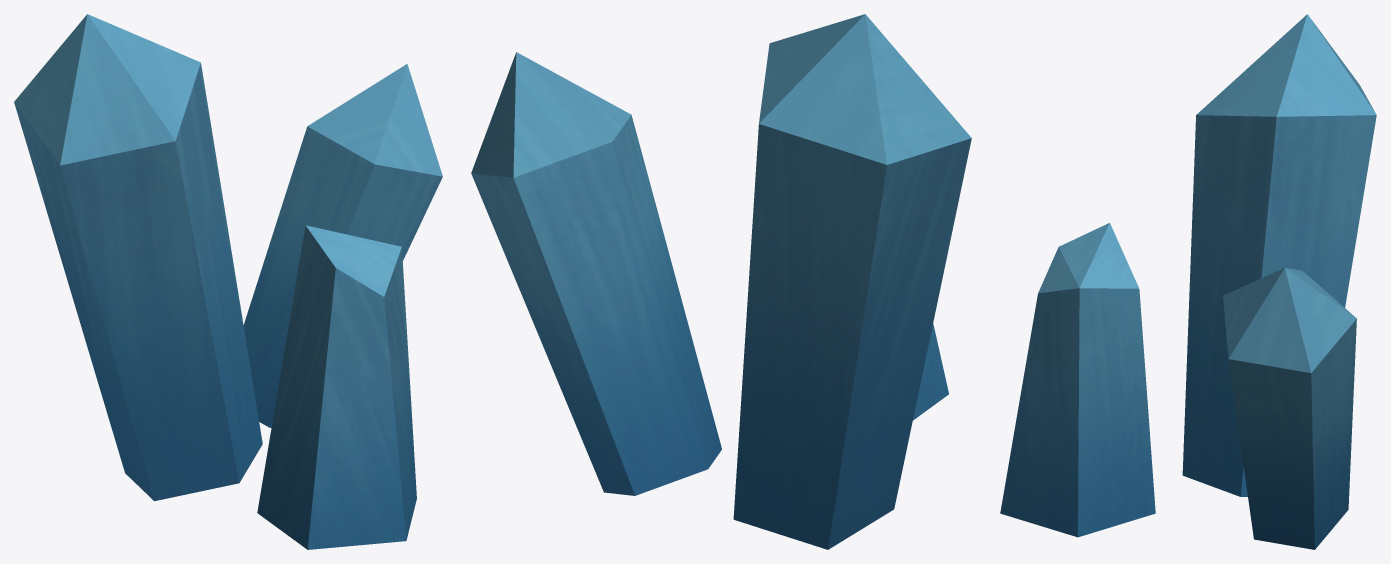
The model's file is Crtystal_1.FBX.
The picture shows the model from 3 angles, left to right: view 1: azimuth 30°, elevation 25°; view 2: azimuth 150°, elevation 25°; view 3: azimuth 270°, elevation 25°; orthographic projection. The views are drawn at different scales.
Parts seen in each view (by area): view 1: Cylinder003; view 2: Cylinder003; view 3: Cylinder003.
Part boxes in pixels (x1,y1,x2,y2): Cylinder003: [14, 14, 442, 549]; Cylinder003: [471, 14, 971, 549]; Cylinder003: [1000, 14, 1376, 549].
Size of the model in its own units: 36.77 by 41.79 by 32.17.
